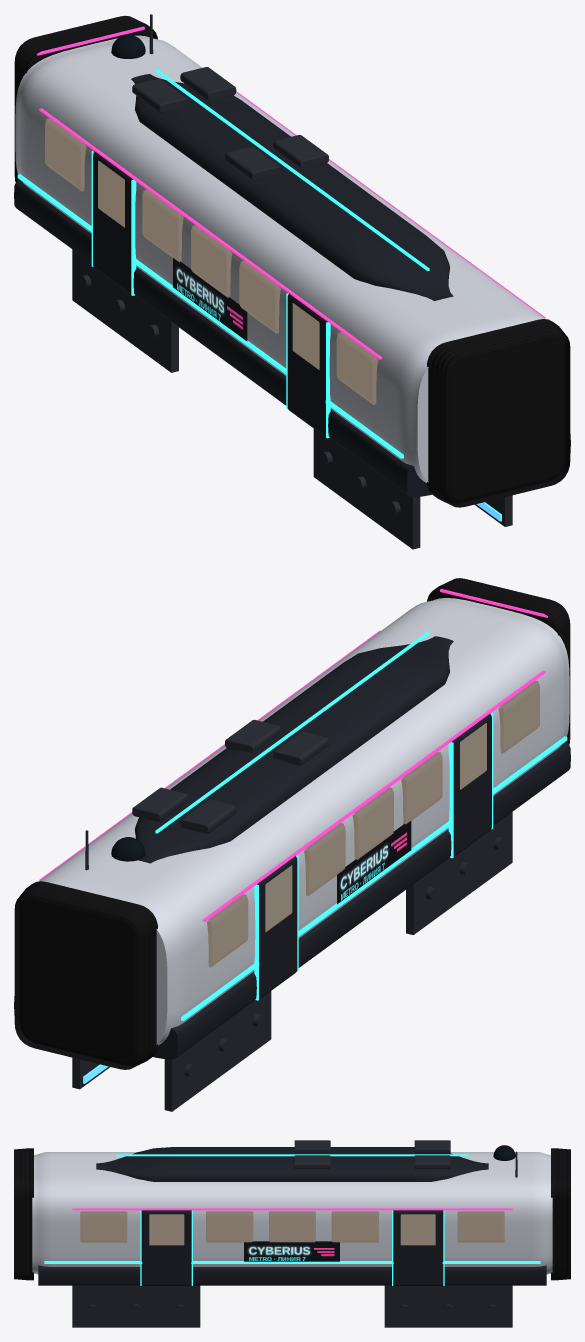
Rendered from train_mid.glb.
3 views of the same model, one above another, from view 1: azimuth 30°, elevation 25°; view 2: azimuth 150°, elevation 25°; view 3: azimuth 270°, elevation 25° (orthographic). The views are drawn at different scales.
Parts seen in each view (by area): view 1: paint, paint2, rubber, gunmetal, window, neon, neon2, screen_logo, glass; view 2: paint, paint2, rubber, gunmetal, window, neon, neon2, screen_logo, glass; view 3: paint, paint2, gunmetal, window, rubber, neon, screen_logo, neon2, glass.
Part boxes in pixels (box(x1,y1,x2,y2)): paint: box(15, 35, 545, 482); paint2: box(14, 74, 570, 496); rubber: box(14, 15, 570, 507); gunmetal: box(72, 14, 512, 549); window: box(45, 118, 378, 404); neon: box(17, 69, 429, 458); neon2: box(36, 26, 545, 359); screen_logo: box(173, 258, 247, 341); glass: box(111, 34, 145, 58); paint: box(39, 598, 569, 1045); paint2: box(14, 636, 570, 1059); rubber: box(14, 578, 570, 1069); gunmetal: box(72, 719, 512, 1111); window: box(206, 680, 539, 967); neon: box(155, 631, 567, 1020); neon2: box(39, 589, 548, 921); screen_logo: box(337, 821, 411, 904); glass: box(111, 837, 145, 861); paint: box(32, 1152, 552, 1274); paint2: box(38, 1147, 546, 1286); gunmetal: box(72, 1140, 517, 1327); window: box(80, 1211, 504, 1245); rubber: box(14, 1148, 570, 1280); neon: box(44, 1154, 540, 1285); screen_logo: box(244, 1241, 339, 1261); neon2: box(72, 1208, 512, 1210); glass: box(493, 1145, 515, 1160).
Size of the model in its own units: 3.15 by 4.69 by 13.92.
10 materials, 1 textured.
